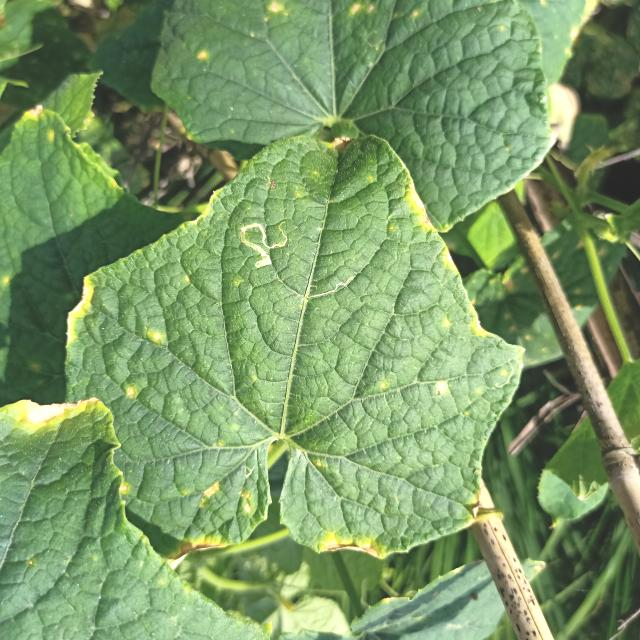disease_cucumber: (199, 479, 255, 517), (439, 308, 491, 340), (432, 377, 451, 395), (124, 383, 138, 401), (149, 328, 164, 344)
